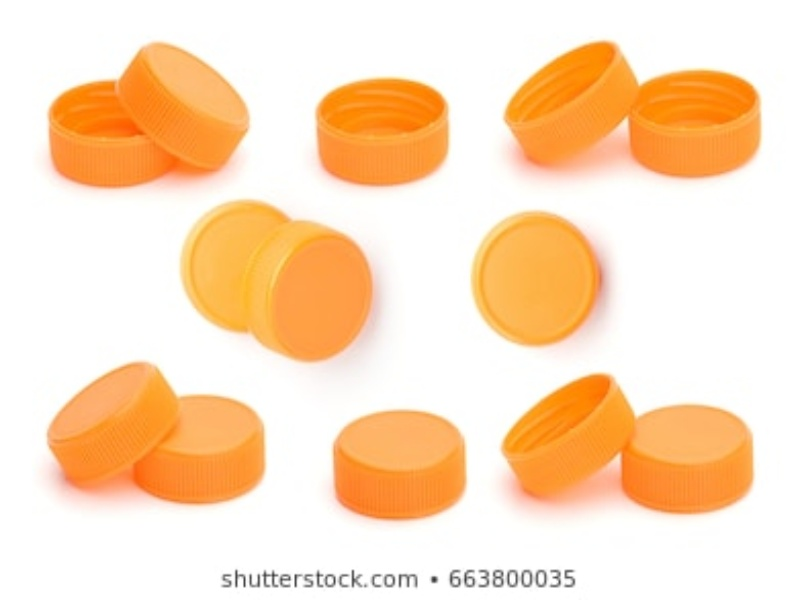bottle-cap: (239, 220, 381, 364), (116, 34, 259, 171), (499, 38, 643, 171), (467, 209, 602, 345), (501, 374, 640, 498), (50, 360, 178, 487), (329, 408, 470, 521), (629, 66, 764, 182), (314, 76, 452, 188), (180, 202, 295, 336), (135, 389, 267, 505), (623, 399, 753, 514), (44, 75, 178, 186)
